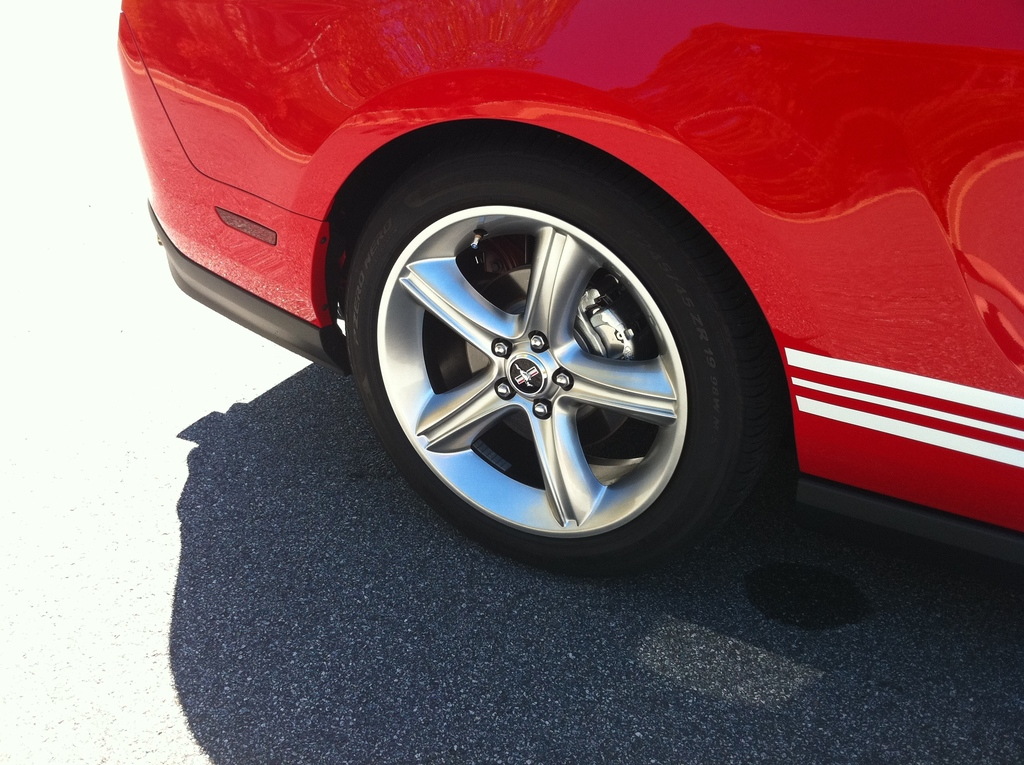Car: (118, 7, 968, 579)
